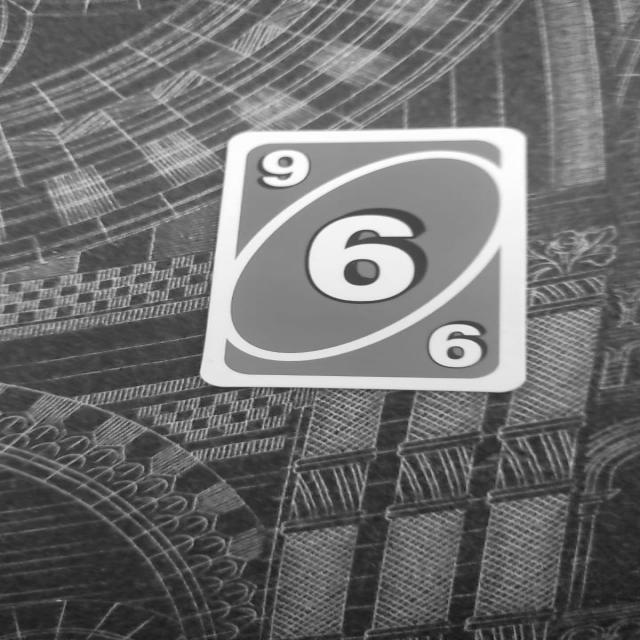card_6: (197, 126, 528, 392)
